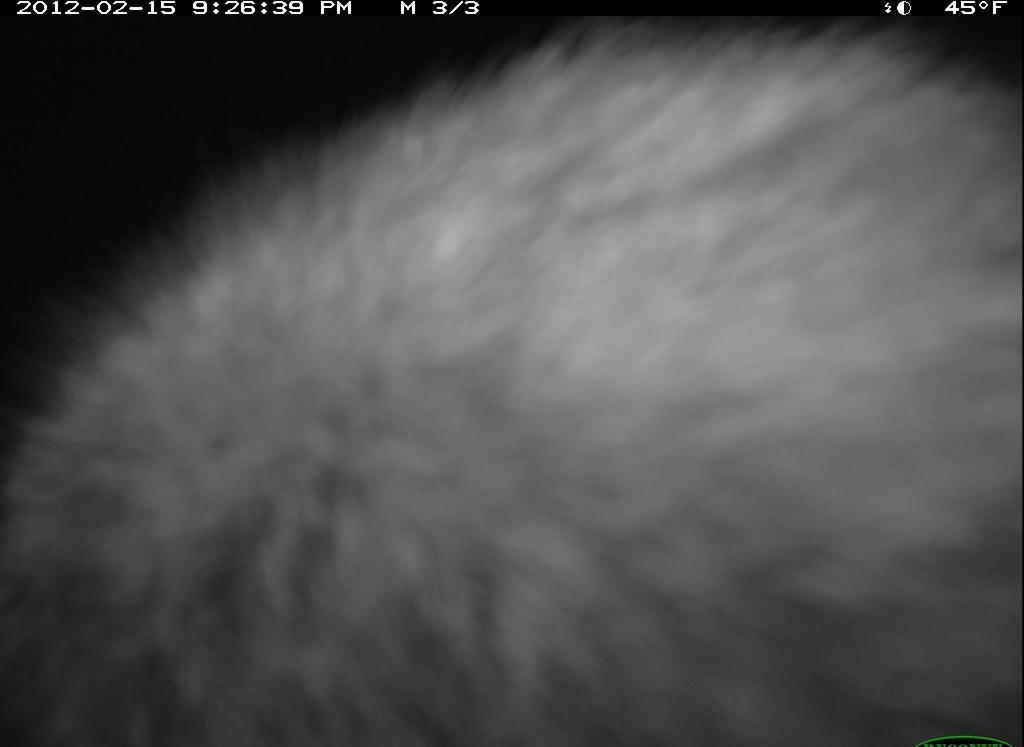raccoon: (7, 29, 1021, 747)
